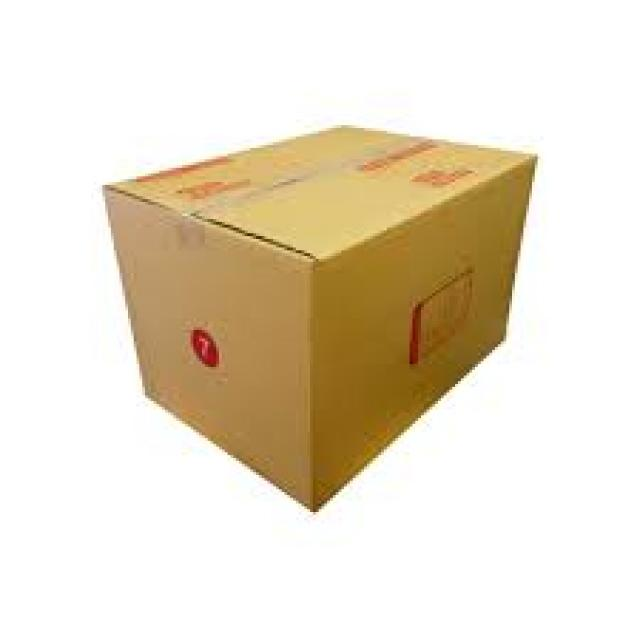box: (77, 104, 555, 533)
